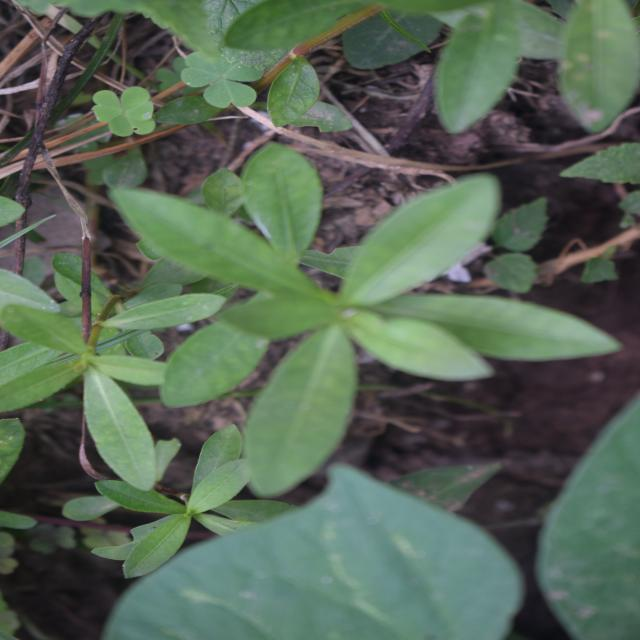Alligatorweed: (168, 10, 388, 232), (80, 91, 193, 262)
